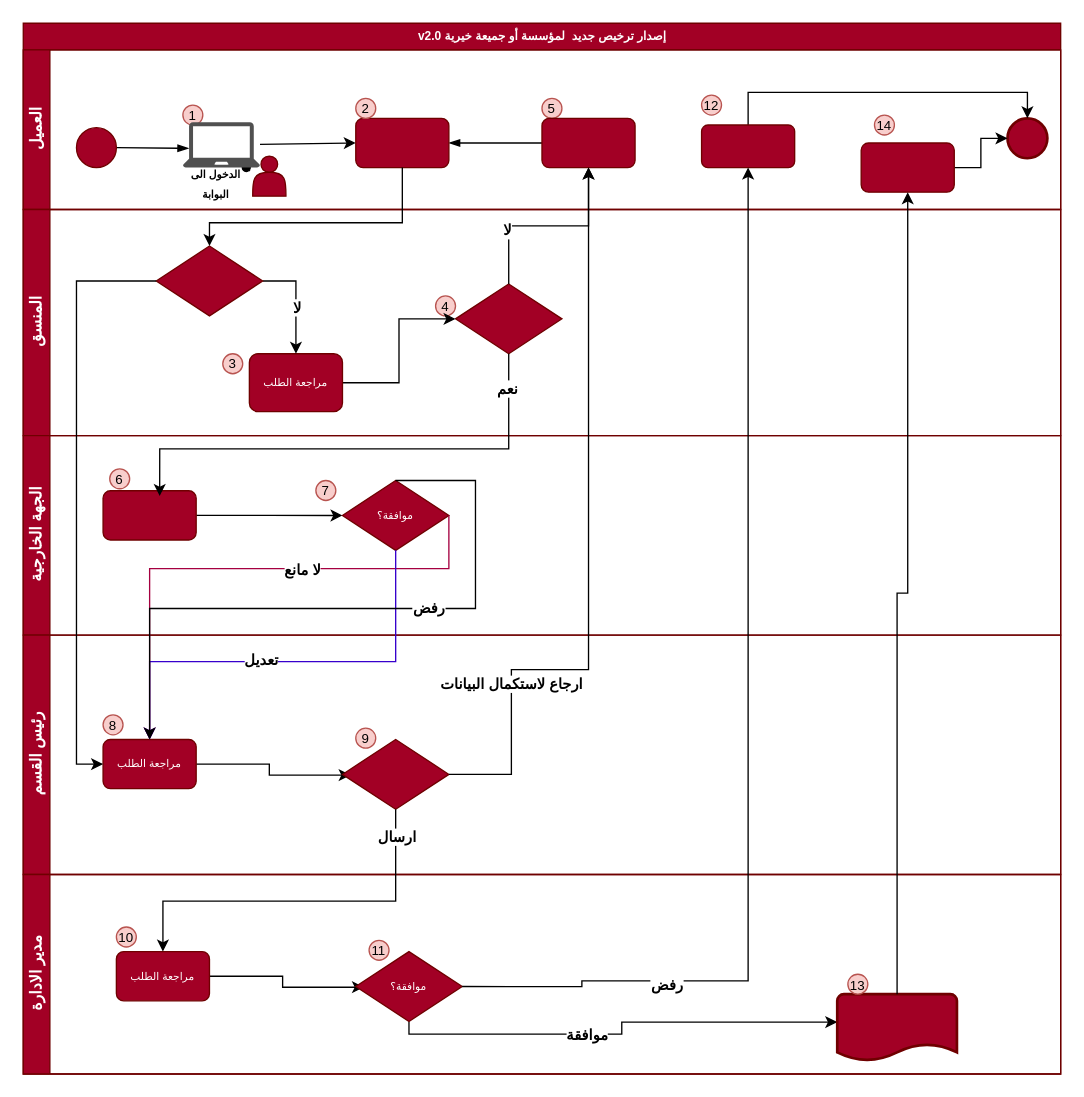
This 1084x1097 diagram has some shape labels left out. The shapes that lost their labels are listed below. From the top down, each one's centre as x and y in pixels, then its label:
At point 95,147: "بداية".
At point 401,142: "تعبئة وتقديم نموذج الطلب".
At point 588,142: "استكمال البيانات المطلوبة و اعادة الارسال".
At point 747,146: "ارسال رسالة إعتذار".
At point 1026,137: "اغلاق".
At point 907,167: "ارسال رسالة موافقة مرفق ترخيص".
At point 209,280: "من رئيس القسم؟ في حال مرجع من رئيسر القسم".
At point 508,318: "الطلب مكتمل؟".
At point 149,514: "مراجعة الطلب و اعطاء التوصيات".
At point 395,773: "توصيات؟".
At point 896,1026: "اصدار ترخيص من النظام".
